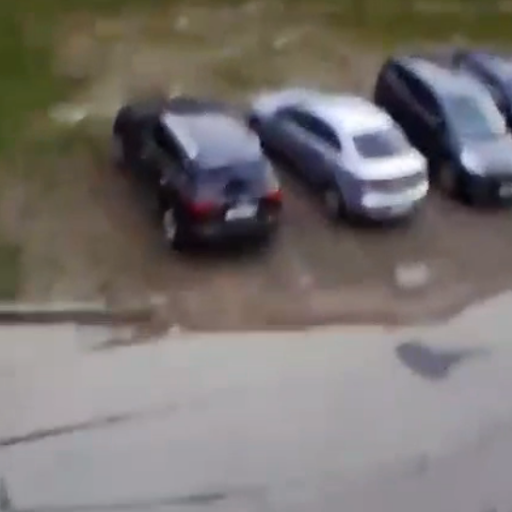Car: (116, 98, 283, 254), (247, 88, 425, 224), (374, 55, 508, 212)
